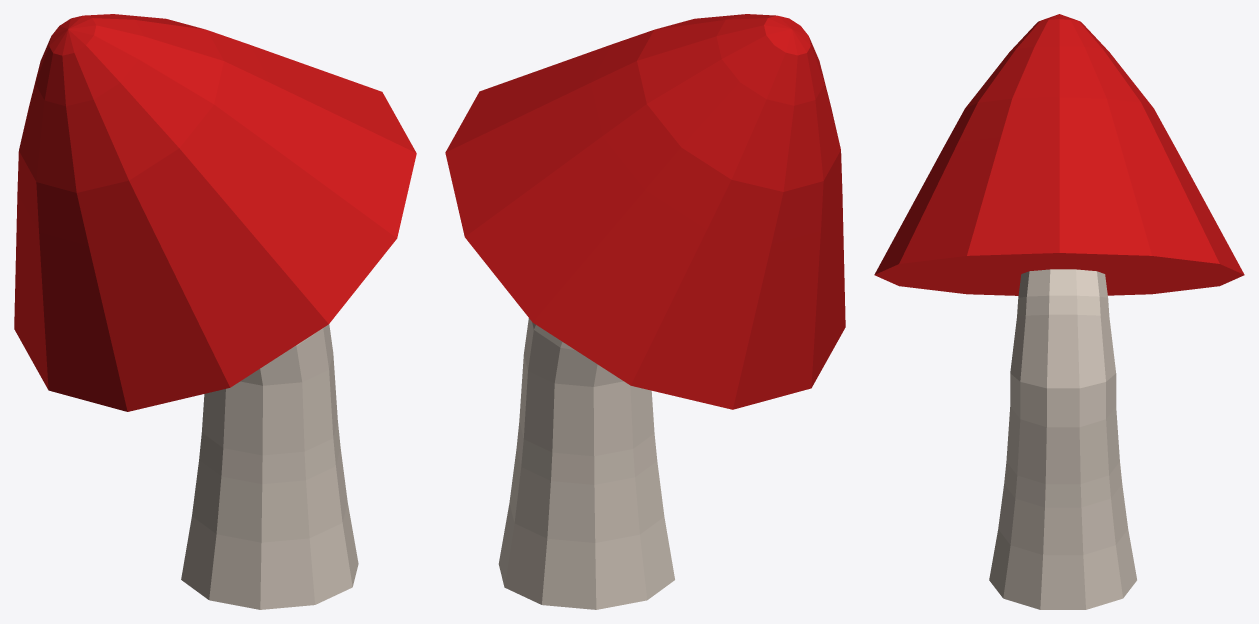
The model's file is kirmizi_mantar.fbx.
The picture shows the model from 3 angles, left to right: view 1: azimuth 30°, elevation 25°; view 2: azimuth 150°, elevation 25°; view 3: azimuth 270°, elevation 25°; orthographic projection. The views are drawn at different scales.
Parts seen in each view (by area): view 1: Cylinder.007, Cylinder.001; view 2: Cylinder.007, Cylinder.001; view 3: Cylinder.007, Cylinder.001.
Part boxes in pixels (bbox=[...]): Cylinder.007: bbox=[14, 14, 416, 411]; Cylinder.001: bbox=[181, 324, 358, 609]; Cylinder.007: bbox=[445, 14, 845, 409]; Cylinder.001: bbox=[498, 318, 674, 609]; Cylinder.007: bbox=[874, 14, 1244, 295]; Cylinder.001: bbox=[989, 269, 1136, 609].
Size of the model in its own units: 634 by 1049 by 720.
